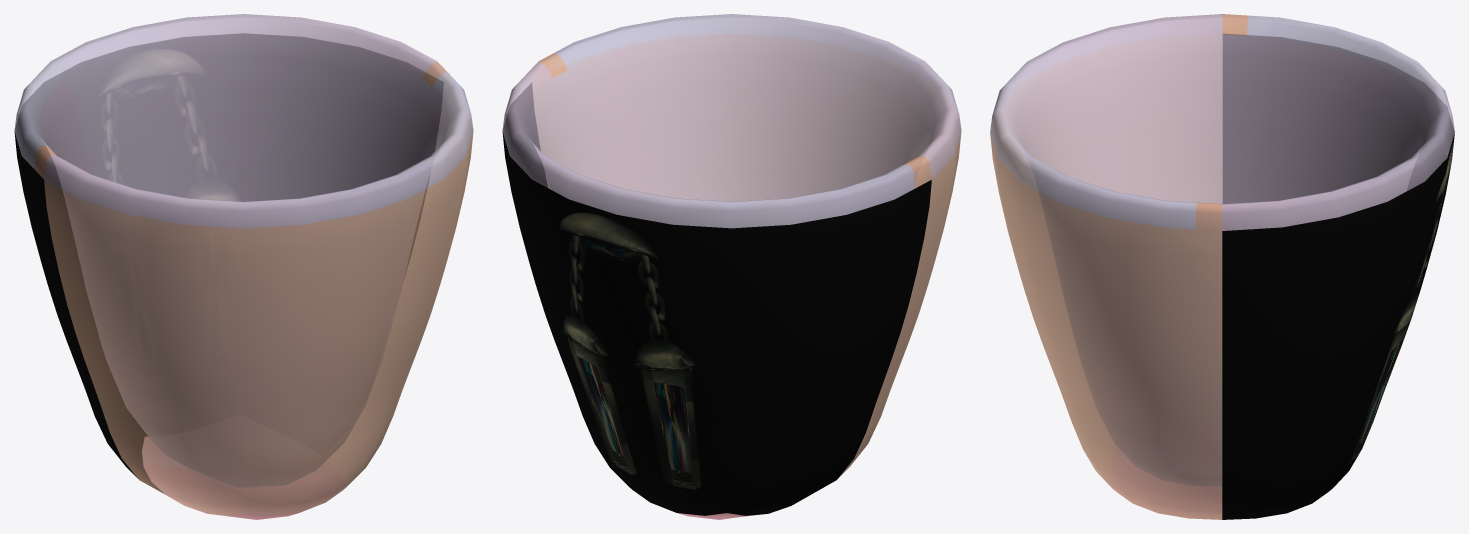
File: Cup4.fbx
3 renders of one model, left to right at view 1: azimuth 30°, elevation 25°; view 2: azimuth 150°, elevation 25°; view 3: azimuth 270°, elevation 25°, orthographic.
Parts seen in each view (by area): view 1: cup; view 2: cup; view 3: cup.
Part boxes in pixels (bbox=[...]): cup: bbox=[14, 14, 473, 519]; cup: bbox=[502, 14, 961, 519]; cup: bbox=[990, 14, 1454, 519].
Size of the model in its own units: 3.17 by 2.91 by 3.16.
